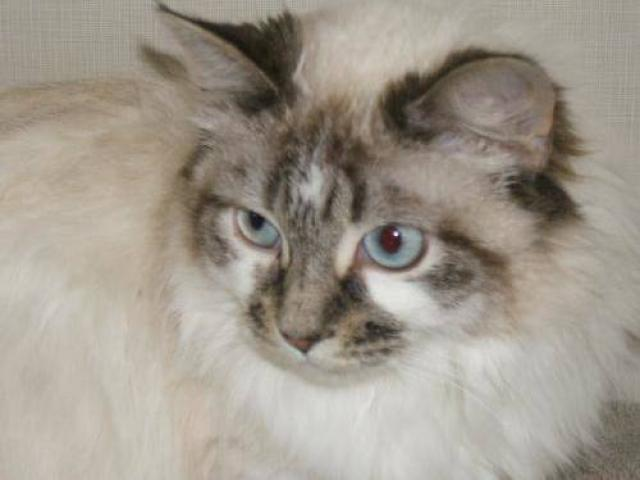cat: (4, 1, 637, 479)
